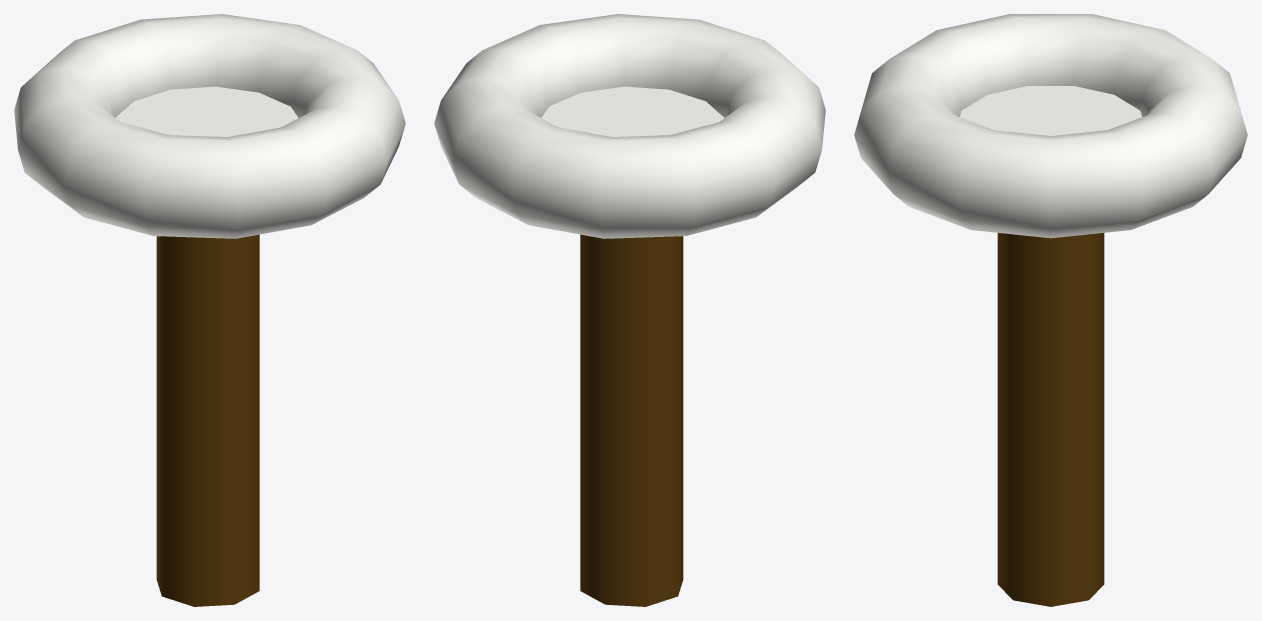
Rendered from TeslaCoil 1.fbx.
3 views of the same model, side by side, from view 1: azimuth 30°, elevation 25°; view 2: azimuth 150°, elevation 25°; view 3: azimuth 270°, elevation 25° (orthographic).
Parts seen in each view (by area): view 1: mesh; view 2: mesh; view 3: mesh.
Boxes of the visible parts, left/top/right/bottom form: mesh: left=14, top=14, right=405, bottom=606; mesh: left=434, top=14, right=825, bottom=606; mesh: left=854, top=14, right=1247, bottom=606.
Size of what is drawn, in the model's own units: 952 by 1359 by 959.
